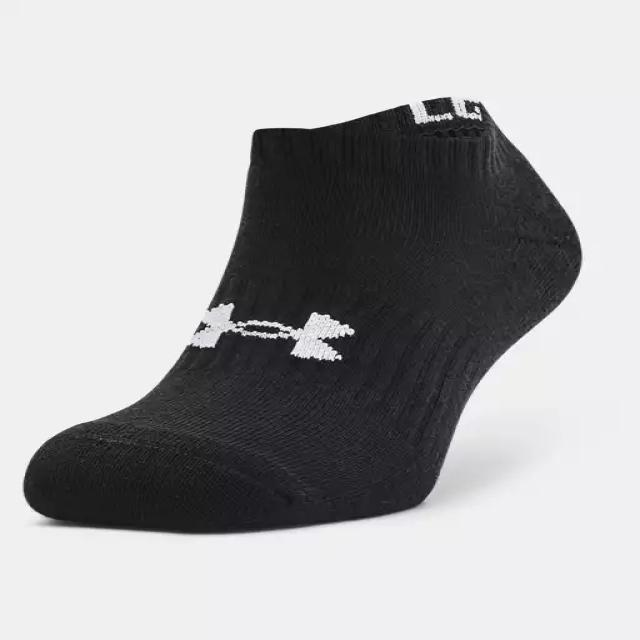sock: (22, 95, 582, 534)
